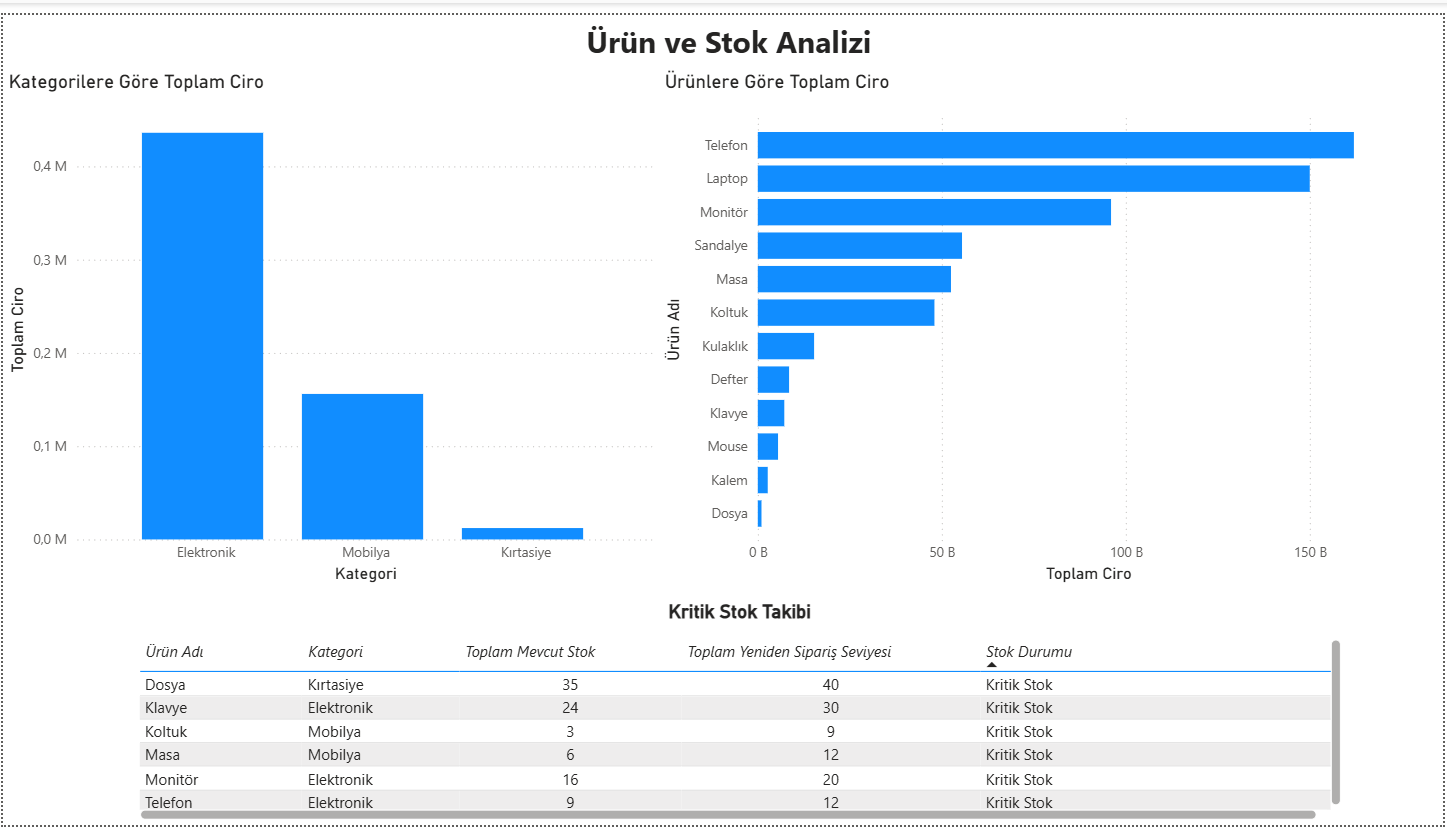

The dashboard page shown, as its layout file describes it:
{"tool":"powerbi","page":{"name":"Ürün ve Stok Analizi","canvas":[1280,720],"ordinal":1},"visuals":[{"type":"textbox","box":[10,0,1270.3,49.8],"z":0},{"type":"clusteredColumnChart","title":"Kategorilere Göre Toplam Ciro","fields":{"Category":["ana_satis_verisi.Kategori"],"Y":["Sum(ana_satis_verisi.Ciro)"]},"box":[0,49.4,583.7,461.1],"z":1000},{"type":"clusteredBarChart","title":"Ürünlere Göre Toplam Ciro","fields":{"Category":["ana_satis_verisi.Ürün Adı"],"Y":["Sum(ana_satis_verisi.Ciro)"]},"box":[583.7,49.4,696.5,461.1],"z":2000},{"type":"tableEx","title":"Kritik Stok Takibi","fields":{"Values":["ana_satis_verisi.Ürün Adı","ana_satis_verisi.Kategori","Sum(ana_satis_verisi.Mevcut Stok)","Sum(ana_satis_verisi.Yeniden Sipariş Seviyesi)","ana_satis_verisi.Stok Durumu"]},"box":[115.6,520.3,1078.7,200.2],"z":3000}]}

Visuals, with their boxes in screenshot pixels (x1, y1, x2, y2), scaled from the page's 1280x720 canvas onto the 1447x830 screenshot:
textbox: region(11, 0, 1446, 57)
"Kategorilere Göre Toplam Ciro" clusteredColumnChart: region(0, 57, 660, 588)
"Ürünlere Göre Toplam Ciro" clusteredBarChart: region(660, 57, 1446, 588)
"Kritik Stok Takibi" tableEx: region(131, 600, 1350, 829)
